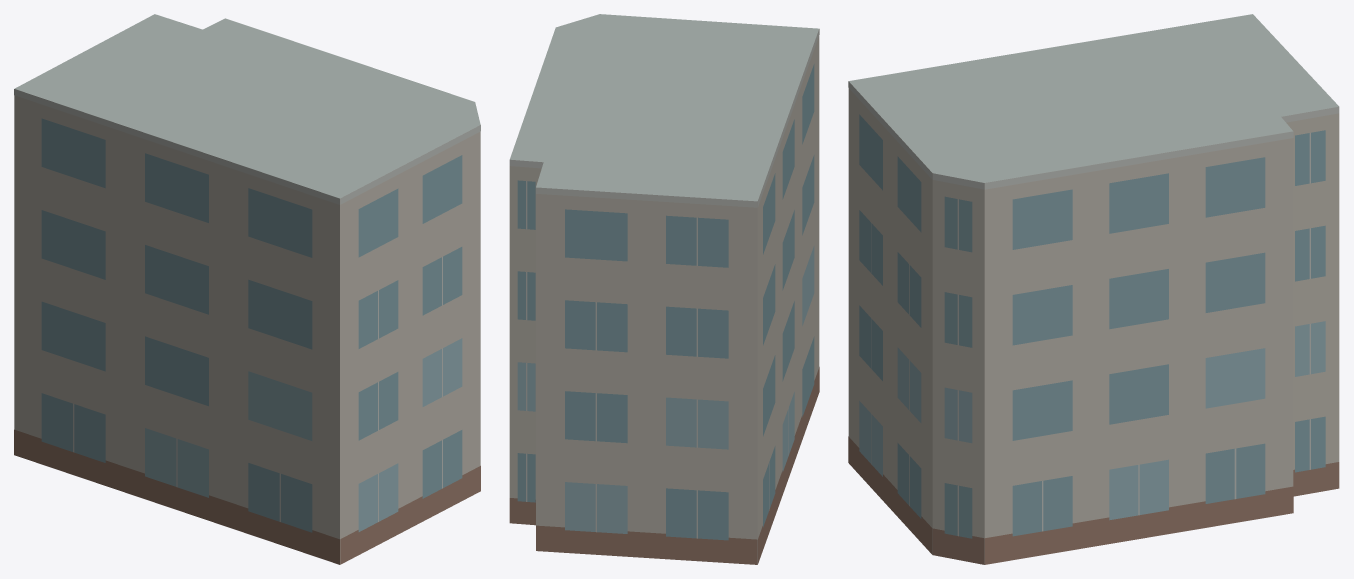
File: survey-upis-32952247.glb
3 views of the same model, side by side, from view 1: azimuth 30°, elevation 25°; view 2: azimuth 150°, elevation 25°; view 3: azimuth 270°, elevation 25° (orthographic). The views are drawn at different scales.
Parts seen in each view (by area): view 1: survey-upis-32952247.tmp; view 2: survey-upis-32952247.tmp; view 3: survey-upis-32952247.tmp.
Boxes of the visible parts, x1=… form: survey-upis-32952247.tmp: x1=14, y1=14, x2=480, y2=564; survey-upis-32952247.tmp: x1=509, y1=14, x2=819, y2=564; survey-upis-32952247.tmp: x1=848, y1=14, x2=1339, y2=564.
Size of the model in its own units: 13.25 by 13.95 by 16.26.
